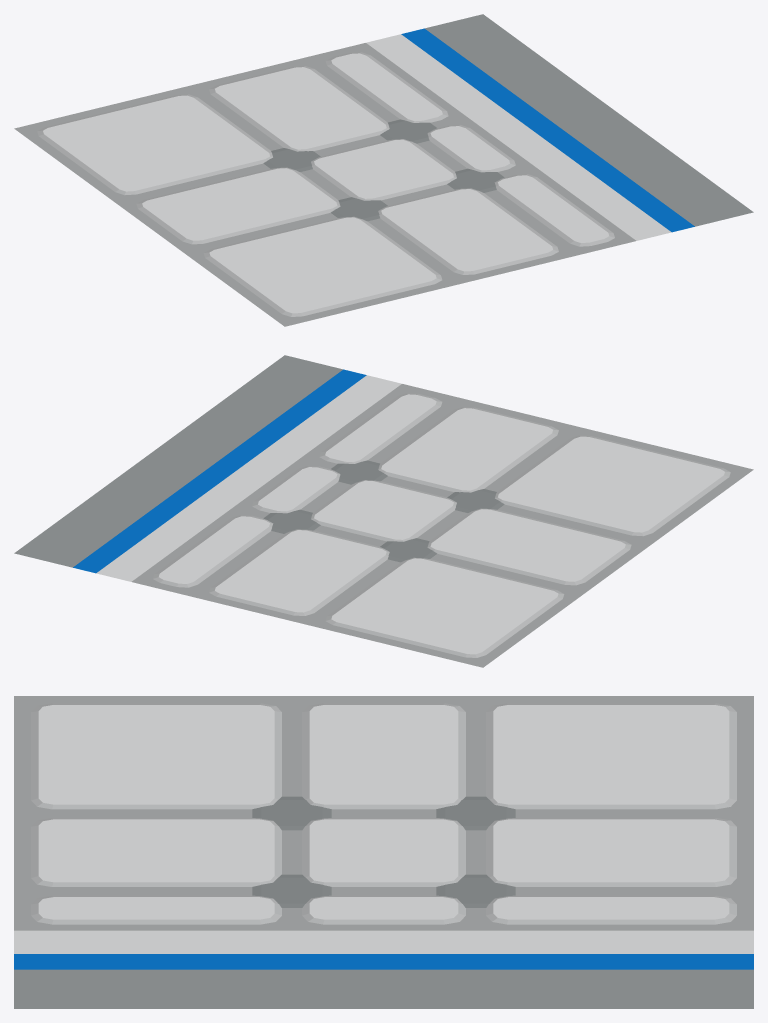
Rendered from Floor_type_A_013.glb.
The picture shows the model from 3 angles, top to bottom: view 1: azimuth 30°, elevation 25°; view 2: azimuth 150°, elevation 25°; view 3: azimuth 270°, elevation 25°; orthographic projection. The views are drawn at different scales.
Parts seen in each view (by area): view 1: Floor_type_A_013; view 2: Floor_type_A_013; view 3: Floor_type_A_013.
Part boxes in pixels (left/top/right/bottom): Floor_type_A_013: left=14, top=14, right=753, bottom=326; Floor_type_A_013: left=14, top=355, right=753, bottom=667; Floor_type_A_013: left=14, top=696, right=753, bottom=1008.
Size of the model in its own units: 4 by 0.0134 by 4.
2 materials, 2 textured.
